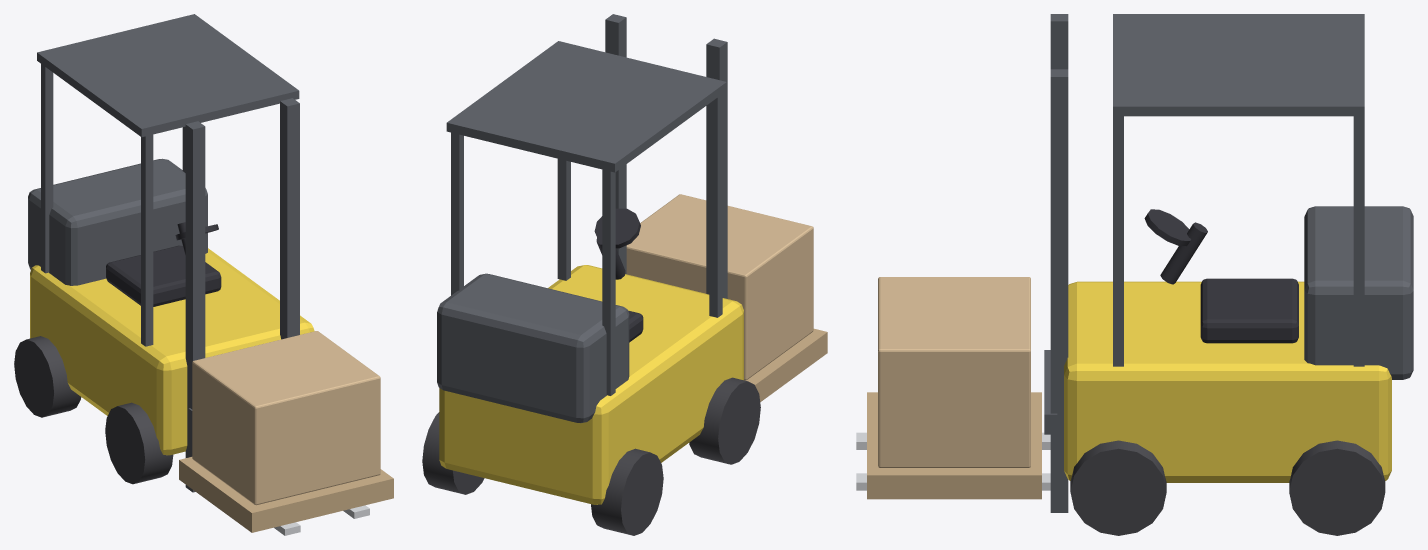
Rendered from Montacargas.fbx.
3 views of the same model, side by side, from view 1: azimuth 30°, elevation 25°; view 2: azimuth 150°, elevation 25°; view 3: azimuth 270°, elevation 25° (orthographic). The views are drawn at different scales.
Parts seen in each view (by area): view 1: Cuerpo, Carga; view 2: Cuerpo, Carga; view 3: Cuerpo, Carga.
Part boxes in pixels (x1,y1,x2,y2): Cuerpo: (14,14,369,535); Carga: (179,331,393,532); Cuerpo: (422,14,760,535); Carga: (626,194,827,401); Cuerpo: (856,14,1413,535); Carga: (867,277,1041,499).
Size of the model in its own units: 1.18 by 2.2 by 2.55.
